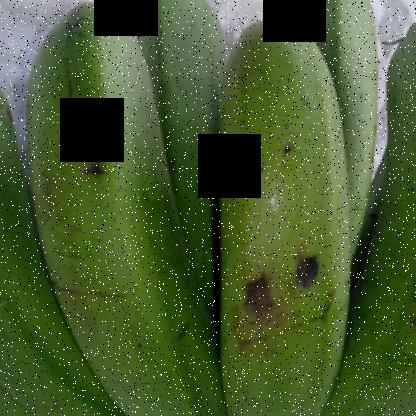unripe: (30, 0, 222, 415), (203, 1, 363, 415), (125, 0, 252, 288), (374, 0, 416, 415)
